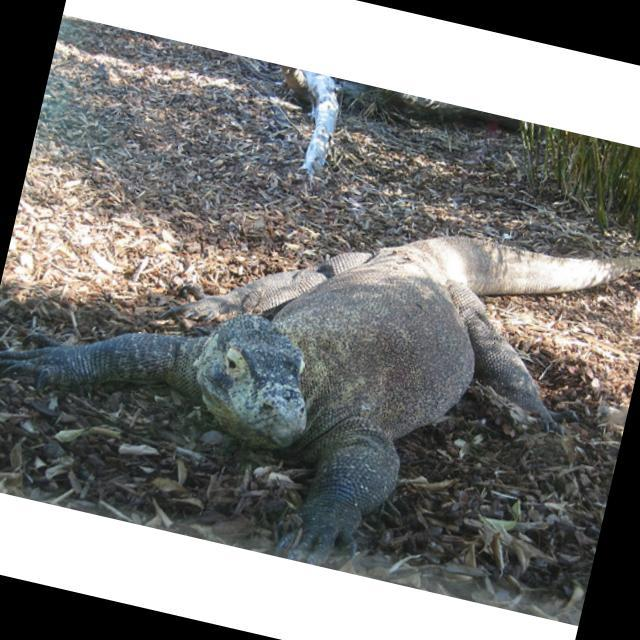KomodoDragon: (0, 113, 640, 623)
